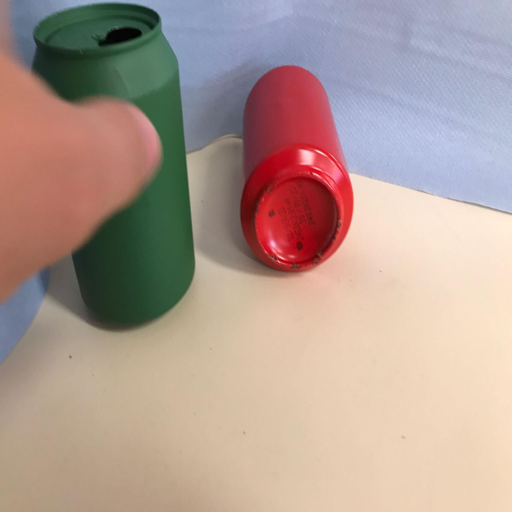Green_Can: (26, 0, 196, 330)
Red_Can: (236, 62, 355, 273)
